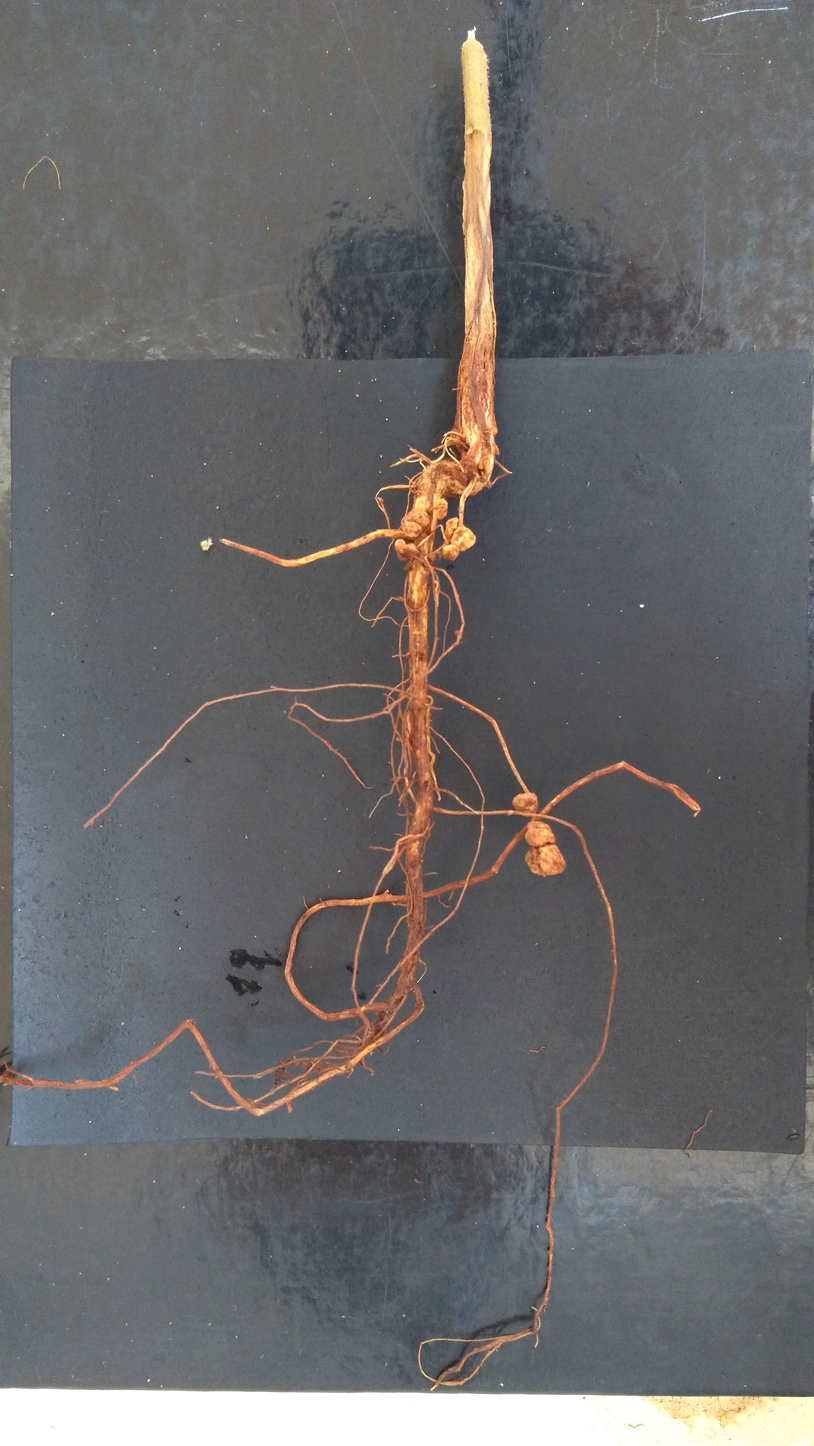nodule: (523, 842, 568, 878), (400, 508, 431, 540), (523, 820, 558, 848), (509, 790, 539, 816), (449, 526, 477, 552), (392, 537, 419, 563), (443, 516, 459, 544), (441, 543, 460, 562), (435, 498, 448, 520)
